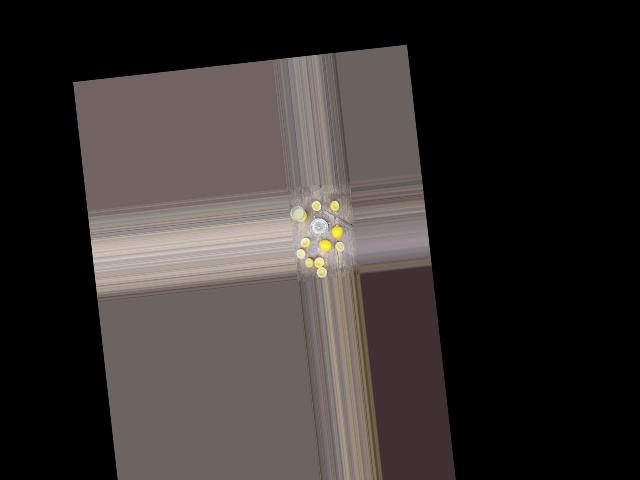lemon: (329, 224, 343, 243)
